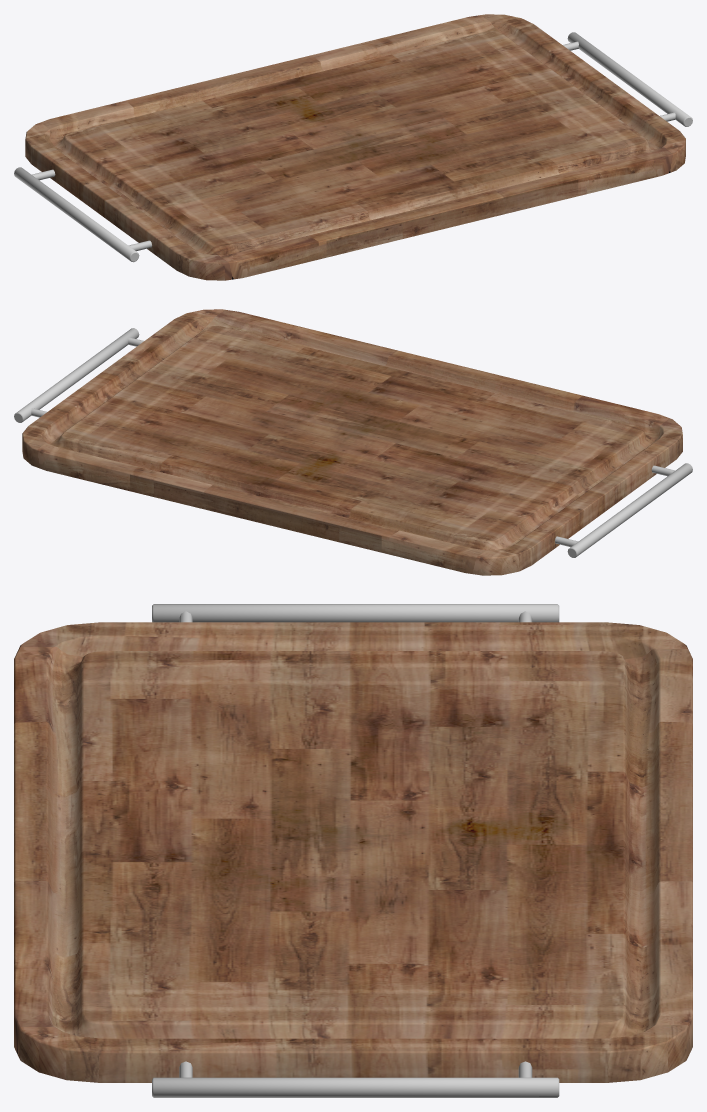
Rendered from _utboard.fbx.
3 views of the same model, one above another, from view 1: azimuth 30°, elevation 25°; view 2: azimuth 150°, elevation 25°; view 3: azimuth 270°, elevation 25° (orthographic). The views are drawn at different scales.
Parts seen in each view (by area): view 1: Board, Handles; view 2: Board, Handles; view 3: Board, Handles.
Boxes of the visible parts, x1,y1,x2,y2 form: Board: [25, 14, 685, 280]; Handles: [14, 32, 692, 262]; Board: [22, 309, 682, 575]; Handles: [14, 328, 692, 557]; Board: [14, 622, 692, 1082]; Handles: [152, 604, 559, 1097].
Size of the model in its own units: 1086 by 32.32 by 646.
2 materials, 1 textured.
